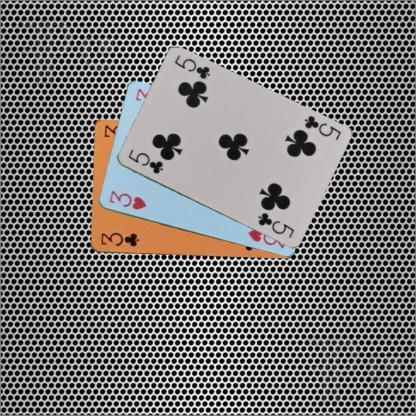3c: (98, 230, 140, 248)
3h: (106, 188, 148, 212)
5c: (301, 113, 342, 142), (125, 146, 164, 176)
